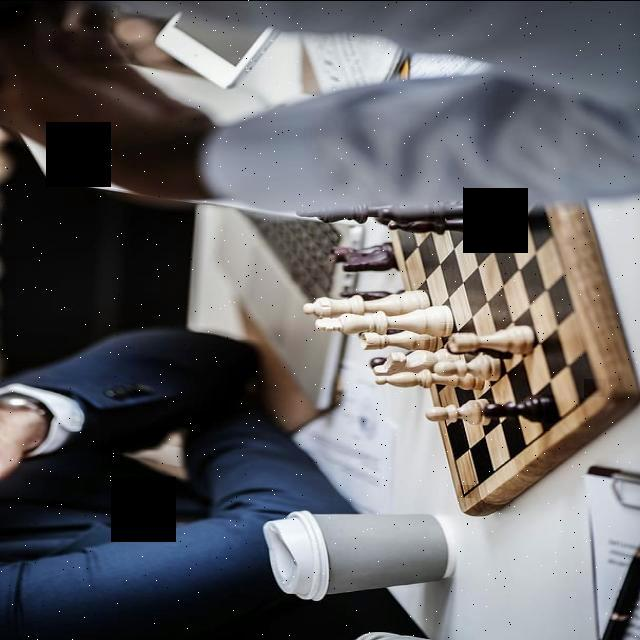chess-table-corners: (584, 378, 606, 396), (458, 484, 474, 497)
